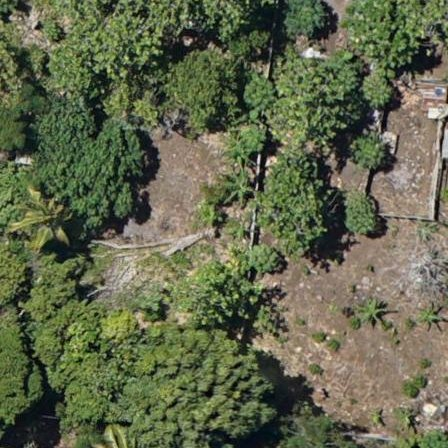palm_tree: (20, 190, 81, 254)
